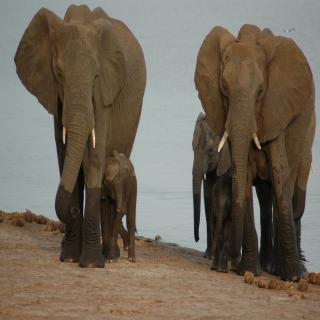Elephant: (13, 0, 147, 268), (195, 16, 312, 283), (185, 102, 238, 266), (97, 144, 144, 274)
